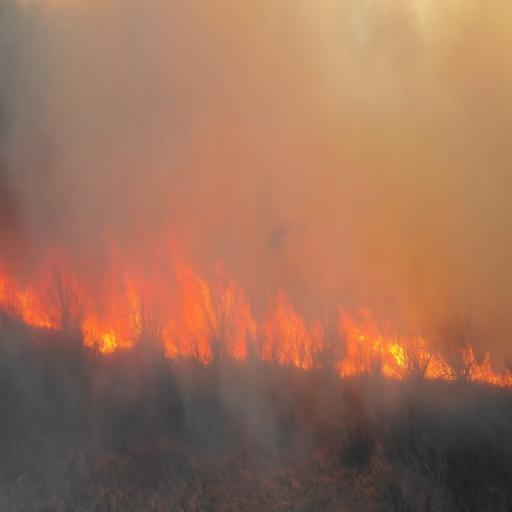fire: (70, 249, 160, 349), (156, 252, 232, 360), (209, 290, 311, 367), (332, 302, 404, 382), (3, 253, 67, 333), (405, 342, 461, 378), (466, 343, 509, 385)
smoke: (31, 0, 512, 205)
